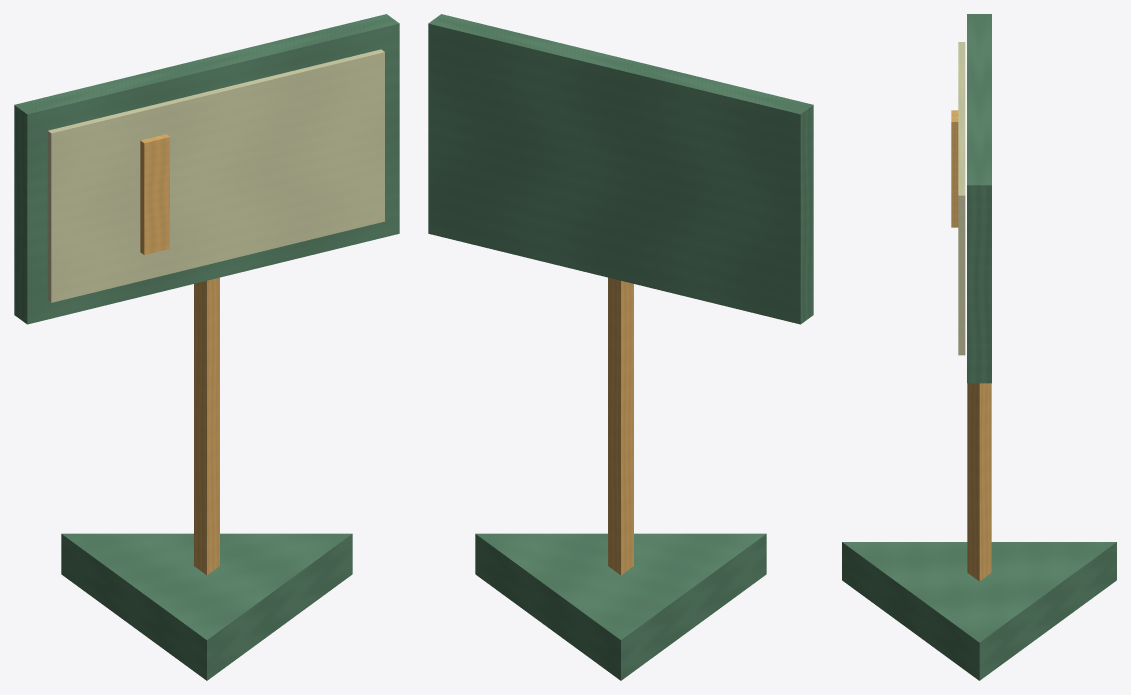
File: atlas100-s002-a11.lod2.glb
3 renders of one model, left to right at view 1: azimuth 30°, elevation 25°; view 2: azimuth 150°, elevation 25°; view 3: azimuth 270°, elevation 25°, orthographic. The views are drawn at different scales.
Visible parts, largest first — view 1: atlas100-s002-a11:part-003, atlas100-s002-a11:part-002, atlas100-s002-a11:part-000, atlas100-s002-a11:part-001, atlas100-s002-a11:part-004; view 2: atlas100-s002-a11:part-002, atlas100-s002-a11:part-000, atlas100-s002-a11:part-001; view 3: atlas100-s002-a11:part-000, atlas100-s002-a11:part-002, atlas100-s002-a11:part-001, atlas100-s002-a11:part-003, atlas100-s002-a11:part-004.
Part boxes in pixels (x1=…): atlas100-s002-a11:part-003: x1=47, y1=49, x2=384, y2=302; atlas100-s002-a11:part-002: x1=14, y1=14, x2=399, y2=324; atlas100-s002-a11:part-000: x1=61, y1=533, x2=352, y2=680; atlas100-s002-a11:part-001: x1=194, y1=277, x2=219, y2=575; atlas100-s002-a11:part-004: x1=140, y1=134, x2=169, y2=254; atlas100-s002-a11:part-002: x1=428, y1=14, x2=813, y2=324; atlas100-s002-a11:part-000: x1=475, y1=533, x2=766, y2=680; atlas100-s002-a11:part-001: x1=608, y1=277, x2=633, y2=575; atlas100-s002-a11:part-000: x1=842, y1=542, x2=1116, y2=680; atlas100-s002-a11:part-002: x1=967, y1=14, x2=991, y2=383; atlas100-s002-a11:part-001: x1=967, y1=383, x2=991, y2=581; atlas100-s002-a11:part-003: x1=958, y1=42, x2=965, y2=355; atlas100-s002-a11:part-004: x1=951, y1=110, x2=958, y2=227.
Size of the model in its own units: 1.15 by 1.61 by 0.7794.
Materials: 3 (3 with a texture image).
